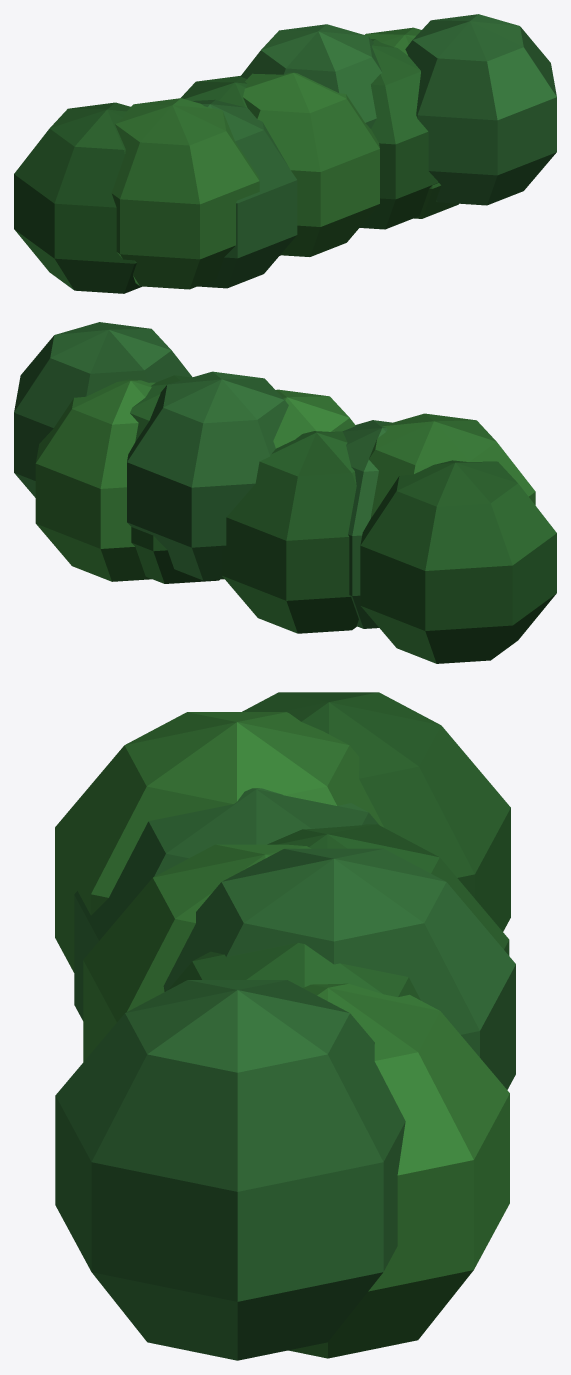
The model's file is p_hedge.glb.
3 views of the same model, one above another, from view 1: azimuth 30°, elevation 25°; view 2: azimuth 150°, elevation 25°; view 3: azimuth 270°, elevation 25° (orthographic). The views are drawn at different scales.
Visible parts, largest first — view 1: p_hedge; view 2: p_hedge; view 3: p_hedge.
Part boxes in pixels (left/top/right/bottom): p_hedge: left=14, top=14, right=556, bottom=293; p_hedge: left=14, top=322, right=556, bottom=663; p_hedge: left=55, top=692, right=515, bottom=1360.
Size of the model in its own units: 1.16 by 0.4657 by 0.4697.
